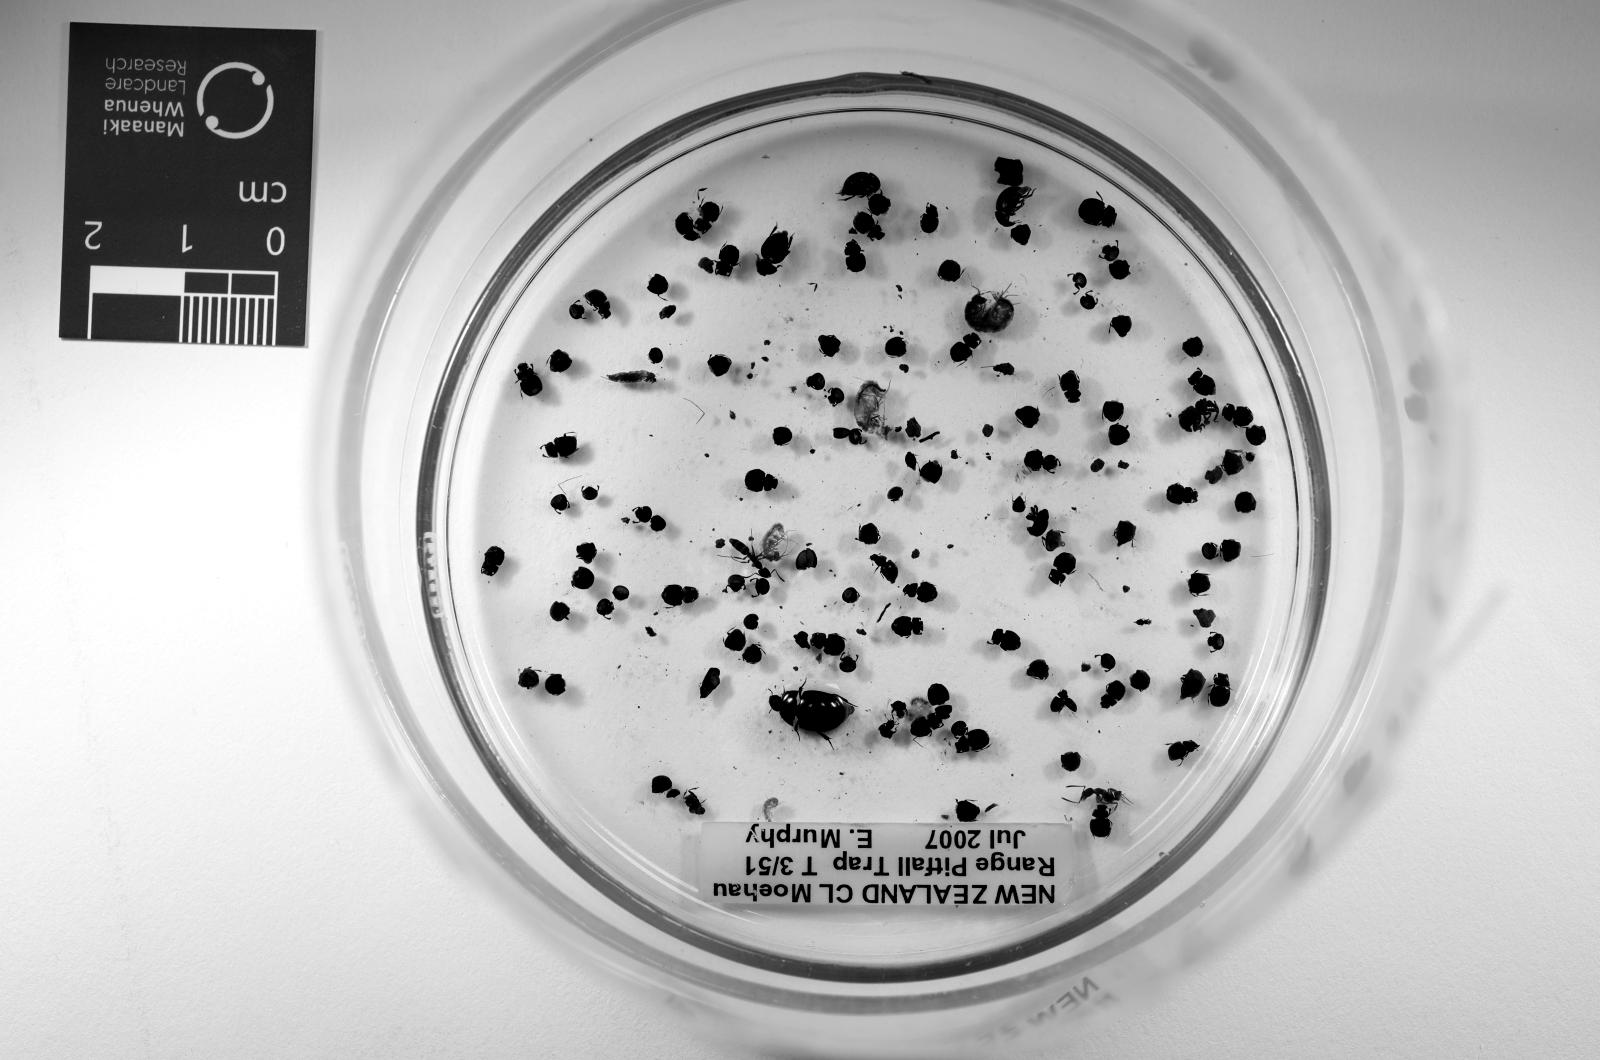amphipoda: (853, 382, 890, 438), (966, 292, 1016, 332), (759, 522, 784, 562), (763, 799, 778, 823)
coleoptera: (769, 690, 856, 739), (993, 183, 1035, 227), (757, 230, 793, 277), (1178, 397, 1219, 432), (841, 170, 881, 199), (1078, 199, 1115, 227), (950, 332, 982, 363), (516, 363, 544, 397), (853, 211, 885, 239), (1050, 552, 1078, 584), (662, 584, 700, 608), (869, 552, 896, 584), (957, 730, 991, 755), (544, 435, 578, 459), (1187, 369, 1216, 397), (1022, 451, 1060, 472), (809, 634, 847, 655), (675, 211, 700, 243), (715, 245, 740, 277), (843, 239, 866, 273), (744, 468, 778, 491), (1090, 804, 1113, 839), (697, 202, 721, 233), (584, 289, 609, 319), (1025, 506, 1050, 537), (481, 547, 506, 577), (909, 711, 940, 736), (1060, 369, 1081, 403), (903, 581, 938, 602), (890, 615, 925, 636), (1166, 739, 1200, 761), (1222, 403, 1254, 426), (1210, 674, 1231, 707), (1100, 680, 1125, 707), (1166, 485, 1197, 506), (991, 631, 1022, 652), (919, 205, 940, 233), (919, 463, 944, 481), (1050, 690, 1069, 715), (903, 453, 919, 468)
formicidae: (728, 537, 782, 577), (1069, 786, 1128, 807)
